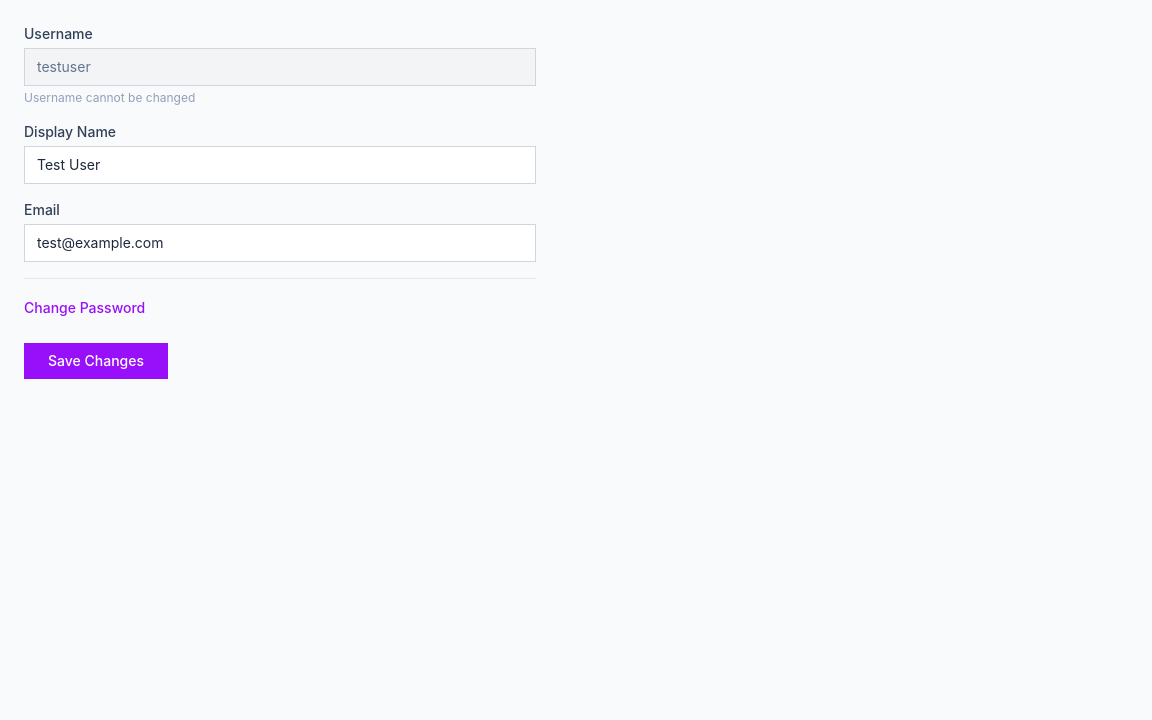
Test: ProfilePage › shows validation error when new password is too short
Click the button "Change Password": (85, 308) [24, 298, 145, 318]
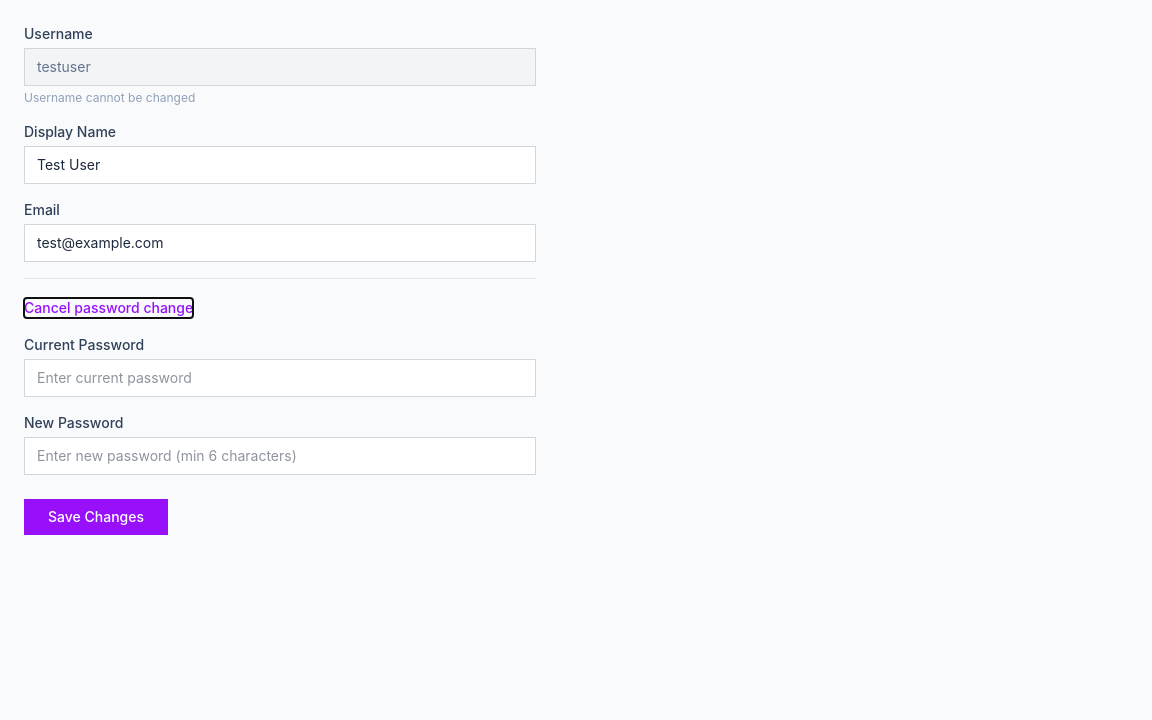
In the password field with placeholder "Enter current password": (280, 378) [24, 359, 536, 397], type "current-pass"
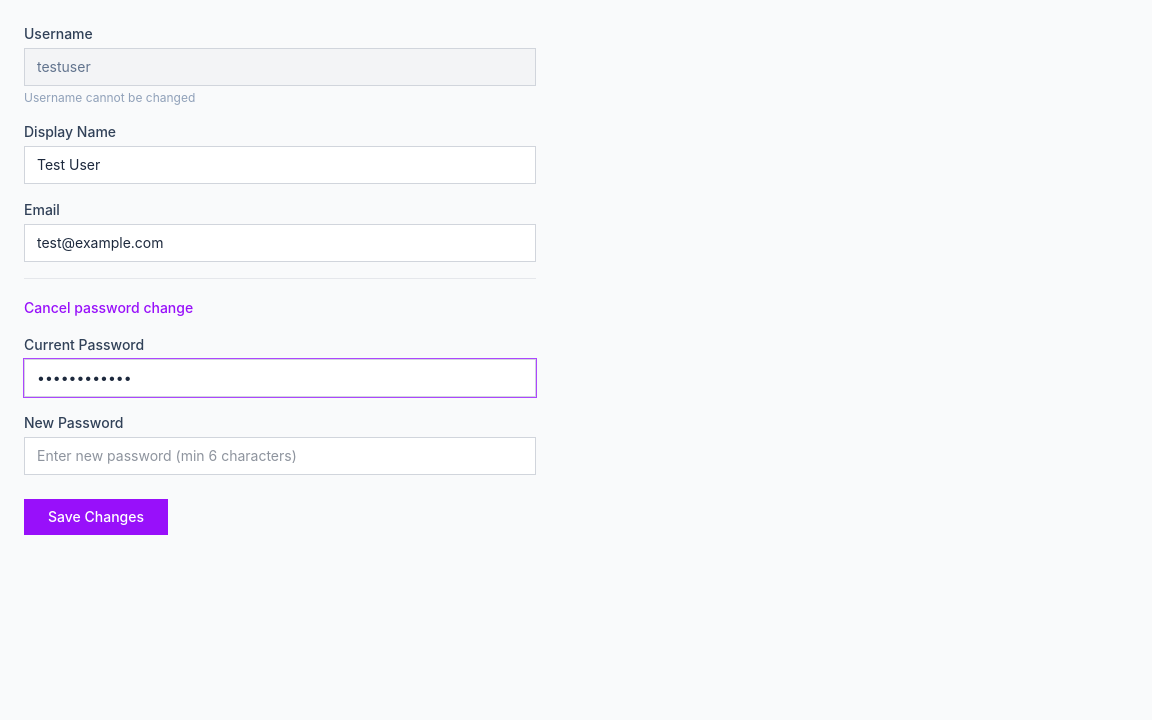
In the password field with placeholder "Enter new password (min 6 characters)": (280, 456) [24, 437, 536, 475], type "ab"
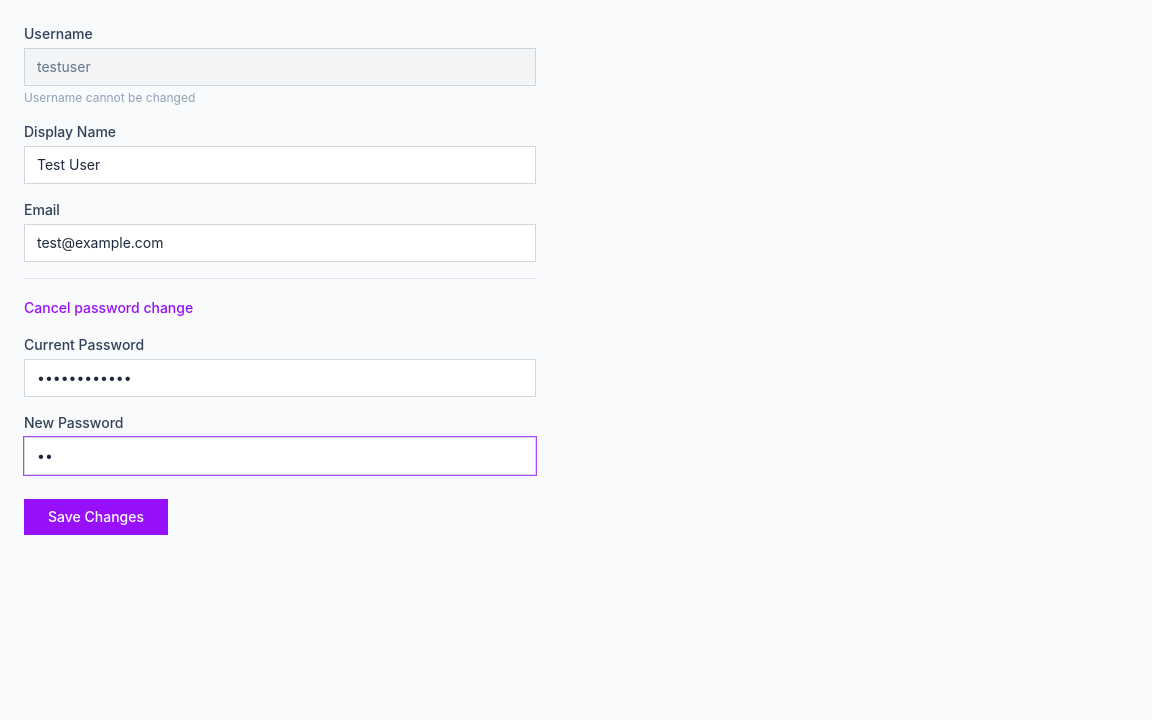
Click the button "Save Changes": (96, 517) [24, 499, 168, 535]
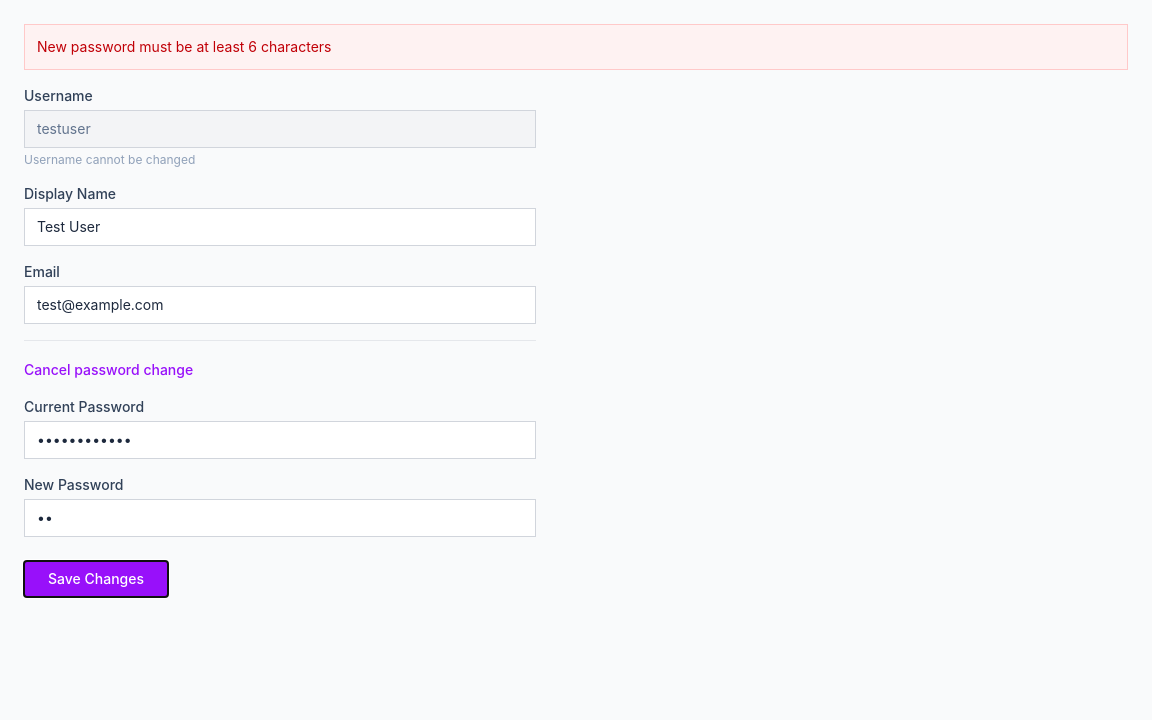
Check: the text "New password must be at least 6 characters" is shown, box [24, 24, 1128, 70]
